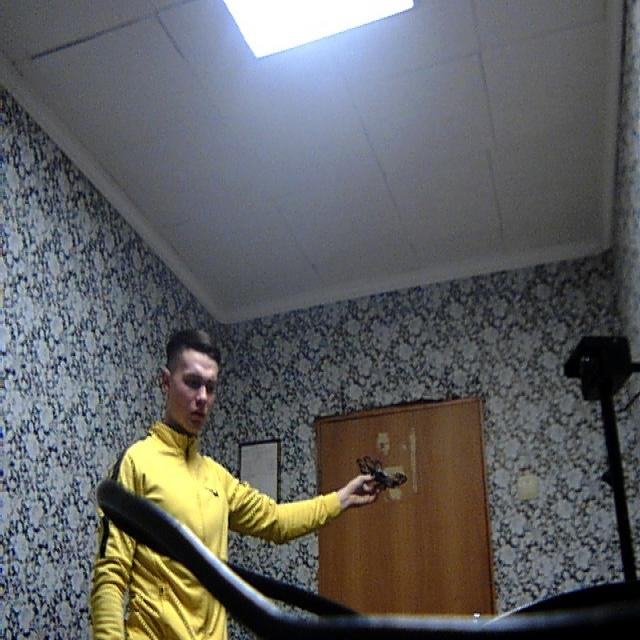drone: (349, 442, 411, 505)
